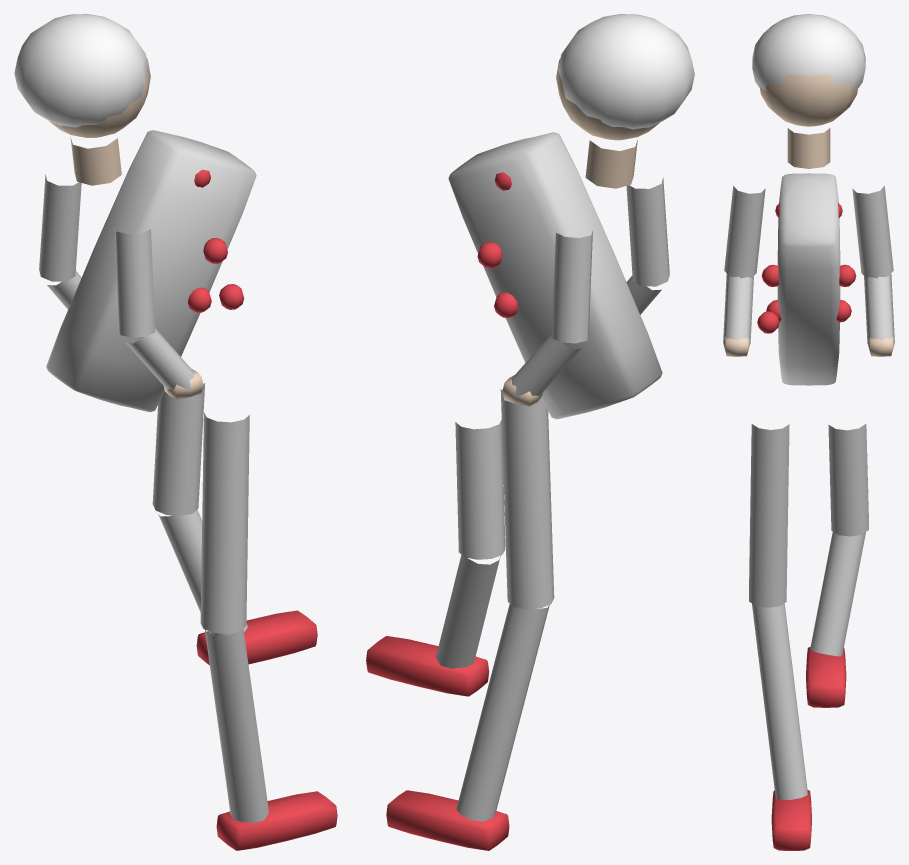
File: kit-polka.glb
3 renders of one model, left to right at view 1: azimuth 30°, elevation 25°; view 2: azimuth 150°, elevation 25°; view 3: azimuth 270°, elevation 25°, orthographic. The views are drawn at different scales.
Visible parts, largest first — view 1: kit-polka; view 2: kit-polka; view 3: kit-polka.
Part boxes in pixels (left/top/right/bottom): kit-polka: left=14, top=14, right=337, bottom=850; kit-polka: left=366, top=14, right=694, bottom=850; kit-polka: left=723, top=14, right=894, bottom=850.
Bounding box in the file's own units: 0.6524 × 1.79 × 0.381.
